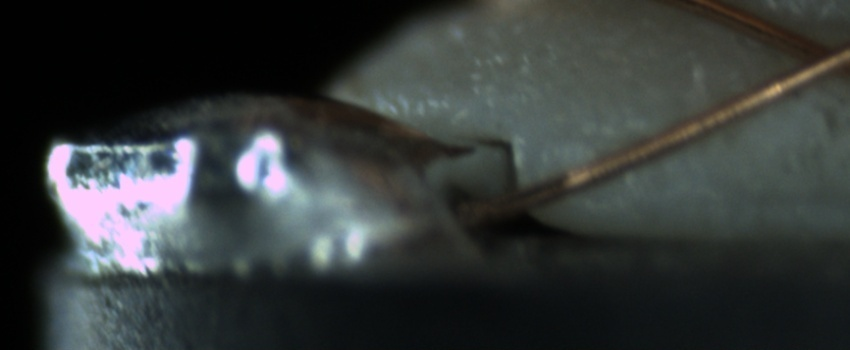CL: (768, 23, 849, 92)
